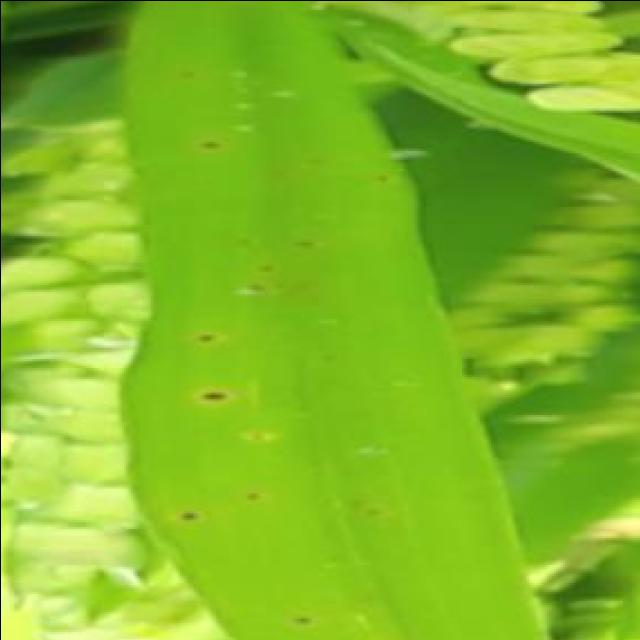Brown_Spot: (237, 425, 282, 457), (170, 56, 210, 90), (192, 385, 238, 414), (284, 611, 326, 638), (190, 329, 228, 356), (228, 230, 262, 258), (235, 486, 271, 512), (290, 235, 324, 262), (172, 508, 208, 532), (243, 278, 276, 304), (194, 137, 228, 161), (369, 168, 396, 197), (262, 164, 294, 188), (316, 347, 344, 371), (258, 260, 282, 286), (342, 496, 372, 514), (304, 150, 328, 172), (304, 456, 332, 474), (360, 591, 382, 613), (365, 504, 389, 524), (309, 470, 327, 486)
